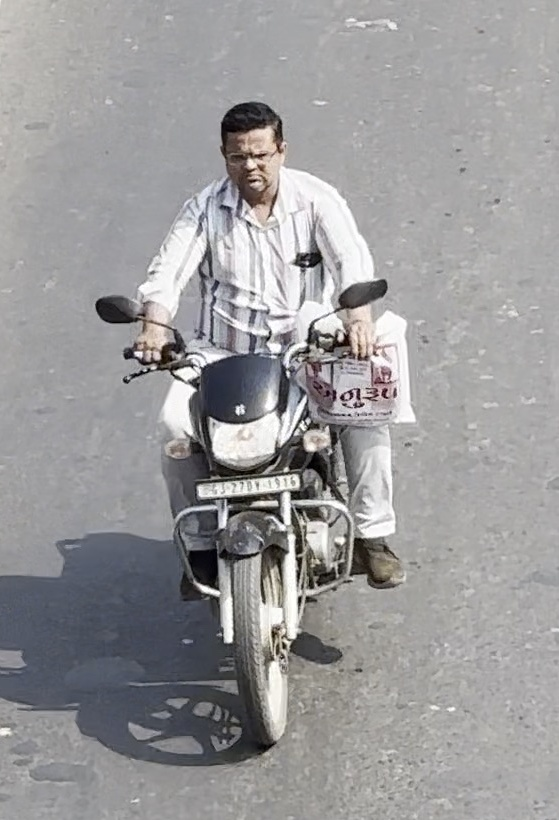BikeWithRider: (74, 87, 449, 756)
NoHelmet: (213, 94, 293, 203)
